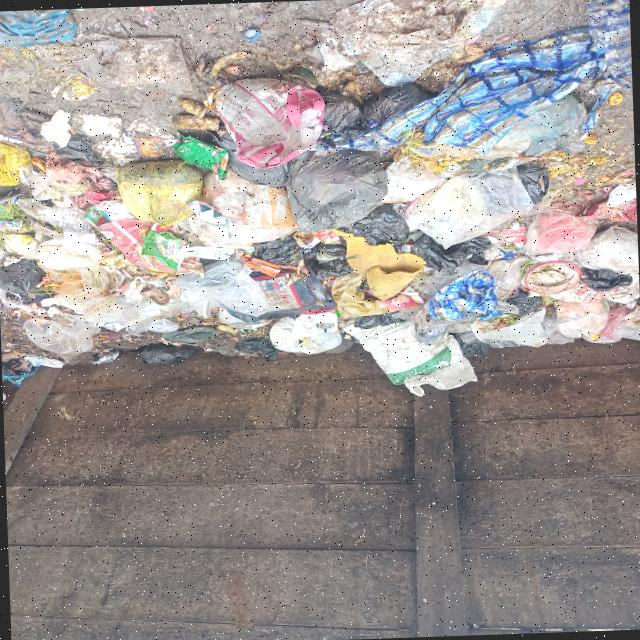garbage: (0, 8, 637, 377)
